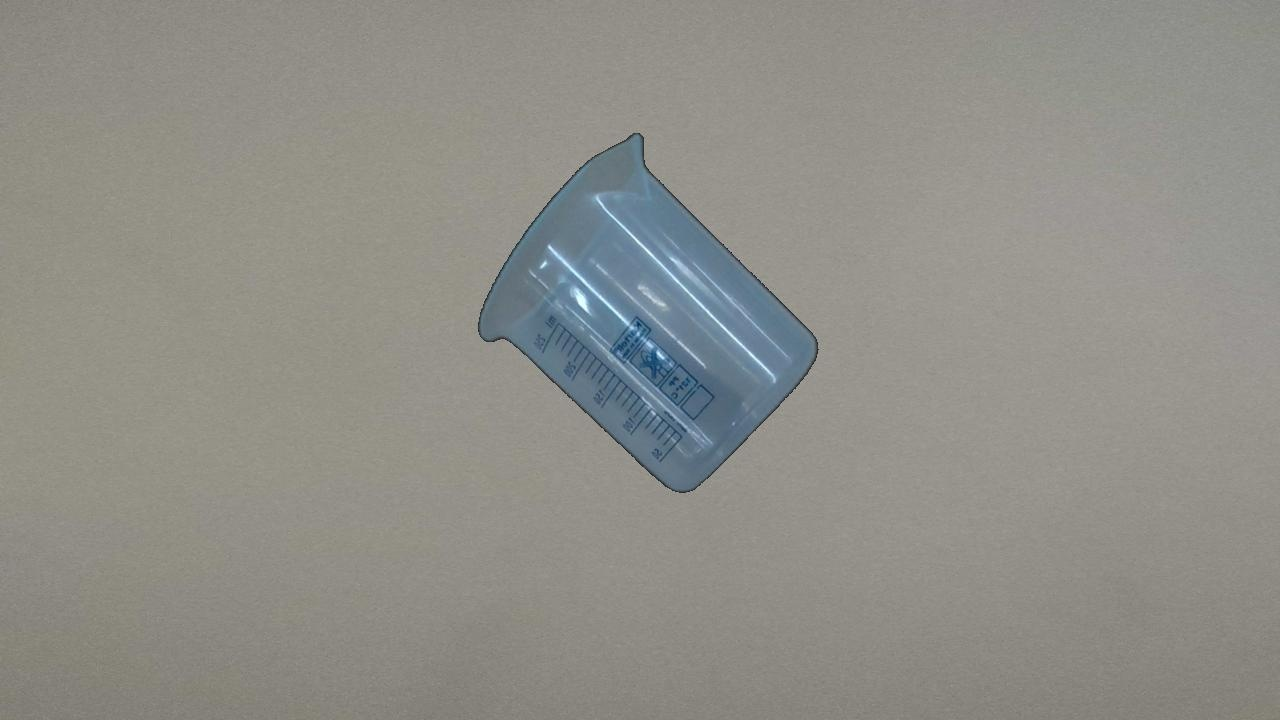becker: (475, 131, 819, 496)
